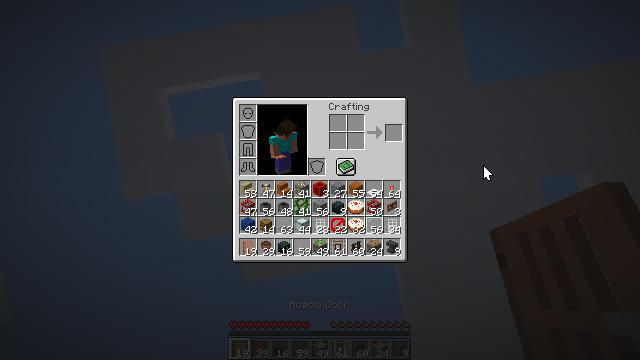cursor: (483, 165, 493, 181)
